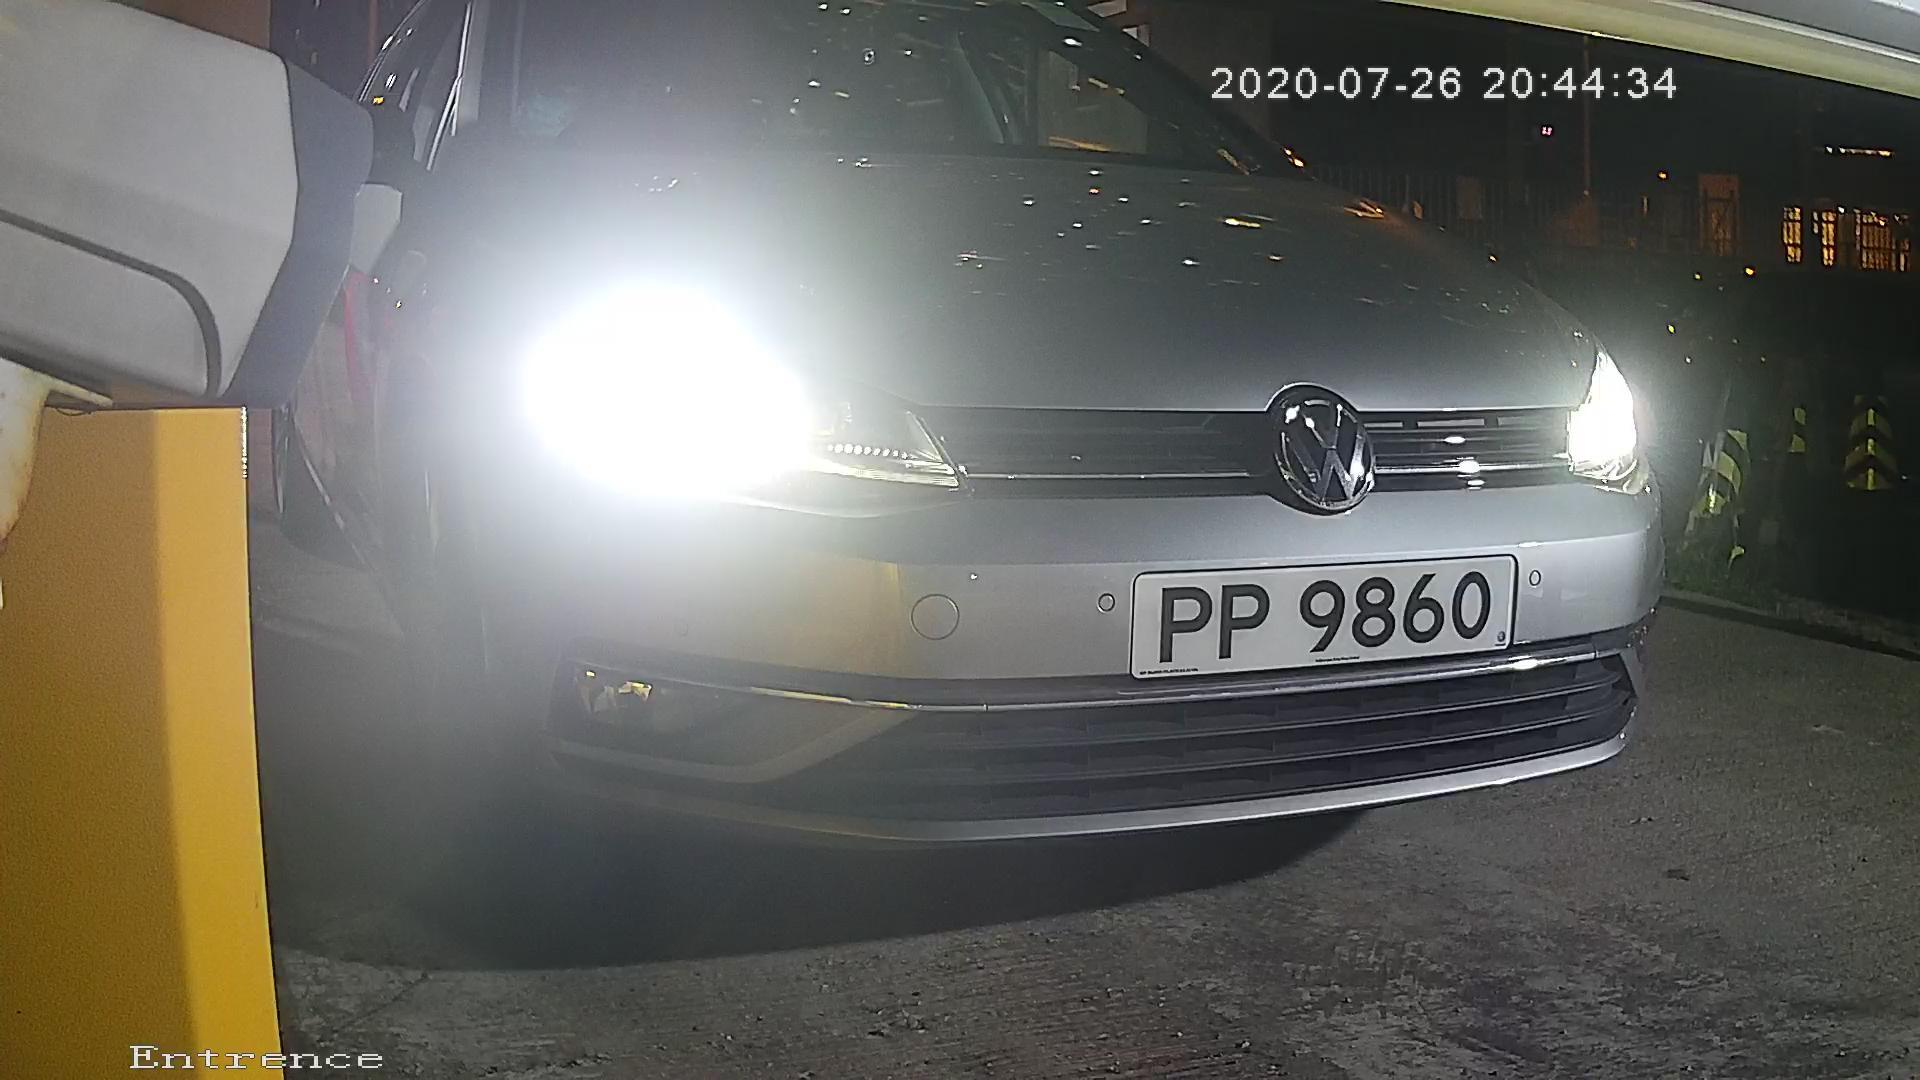Car: (103, 25, 1809, 917)
License Plate: (1106, 545, 1543, 690)
